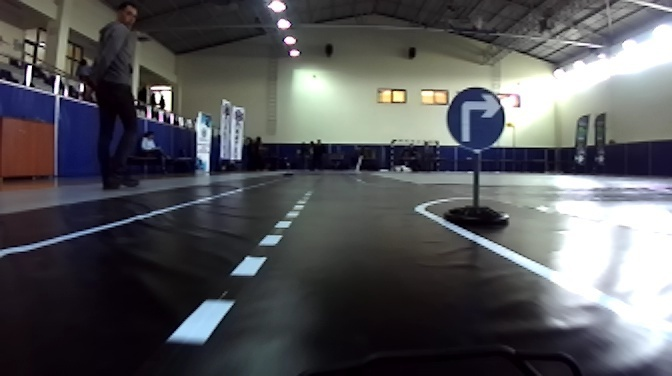saga_donus: (445, 86, 507, 149)
